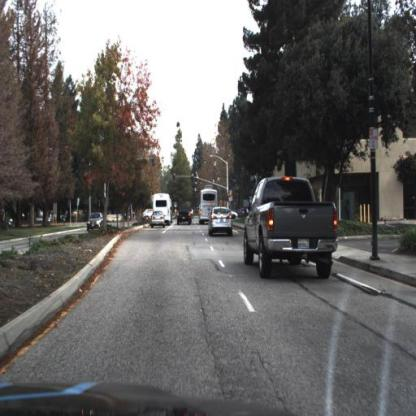car: (243, 173, 339, 280), (209, 205, 234, 239), (86, 211, 104, 232), (177, 206, 192, 227), (150, 210, 166, 229)
truck: (198, 188, 219, 224), (154, 191, 172, 224)
